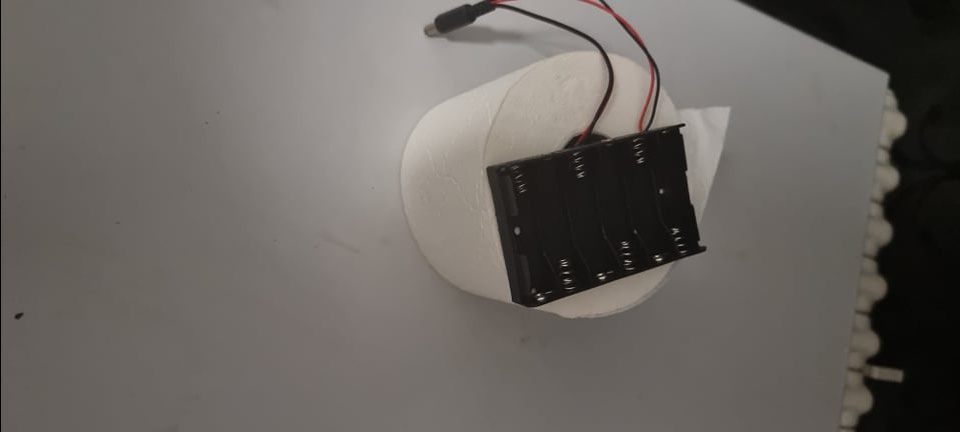BATTERY BOX: (481, 120, 706, 316)
